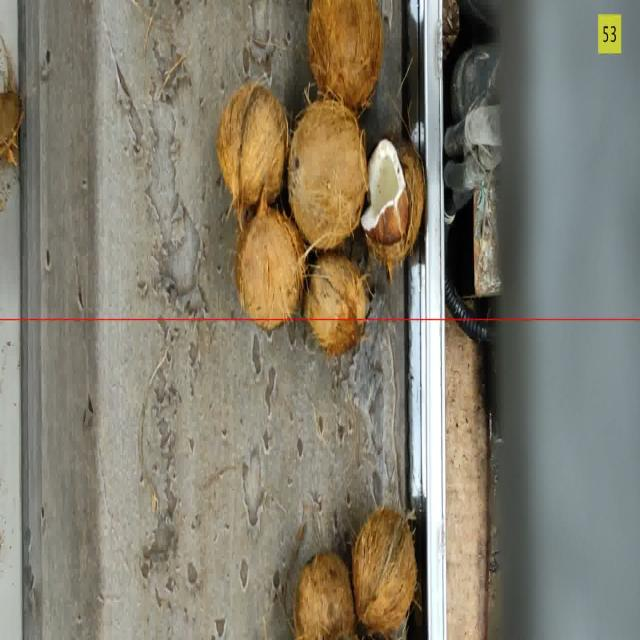Coconut-Conveyor-Belt: (293, 102, 368, 253), (353, 504, 417, 638), (215, 82, 285, 197), (360, 140, 423, 266), (307, 0, 382, 104), (237, 211, 300, 324), (306, 261, 366, 345), (301, 556, 351, 640)
